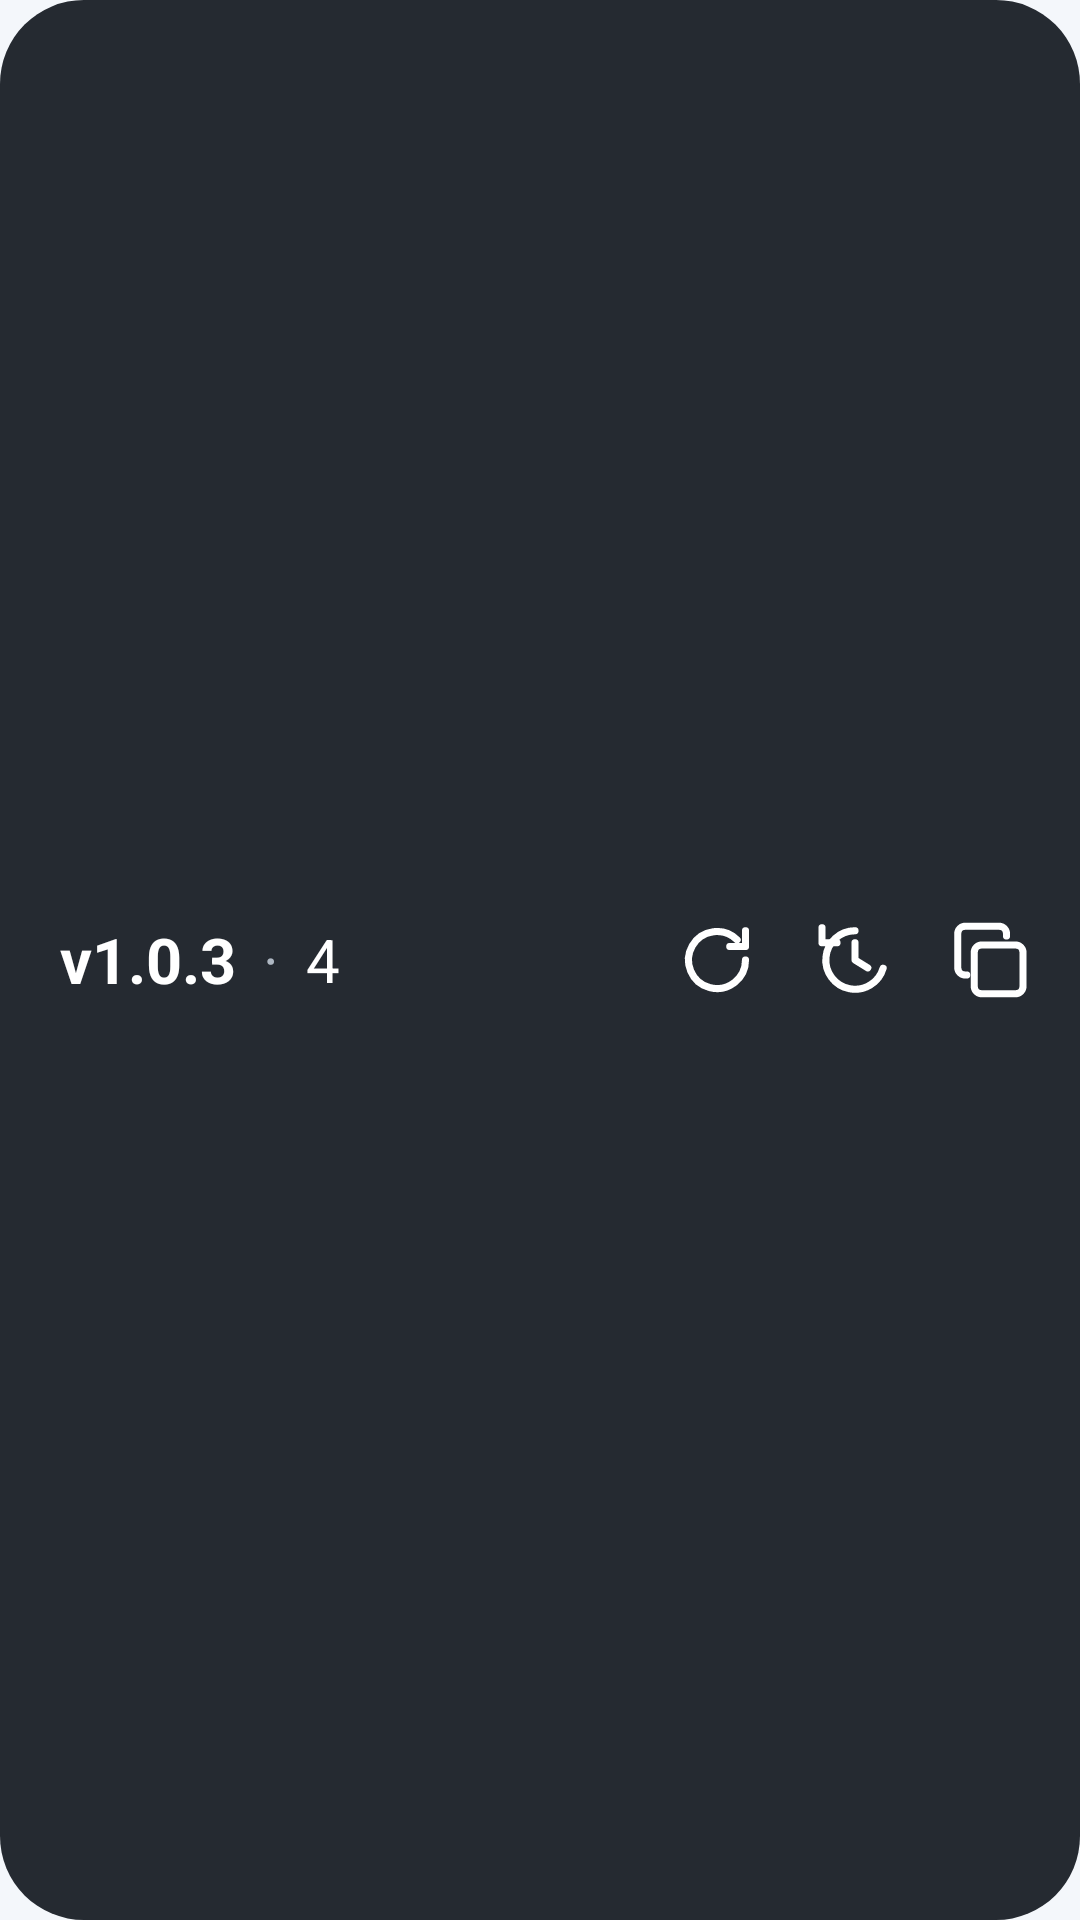

Icons on this 1080x1920 Android screen, each with the point to tap as point (x, y):
查看更新記錄與上次檢查時間: point (852, 958)
立即重新檢查更新: point (716, 960)
複製版本資訊: point (990, 960)
